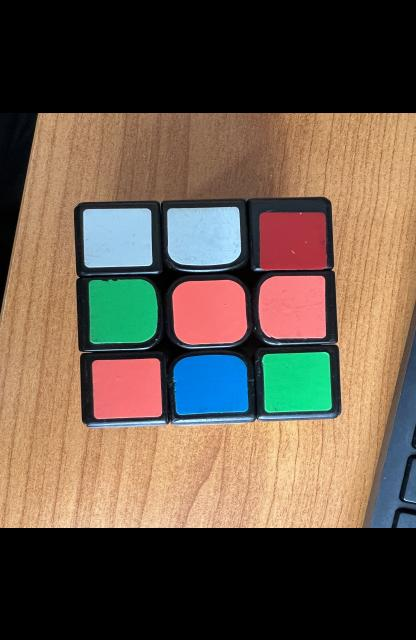Blue: (173, 354, 249, 414)
Green: (88, 278, 158, 343), (262, 351, 332, 412)
Orange: (172, 279, 248, 344), (258, 274, 327, 338), (92, 357, 162, 419)
Red: (259, 212, 327, 269)
White: (167, 206, 242, 265), (83, 207, 153, 267)
